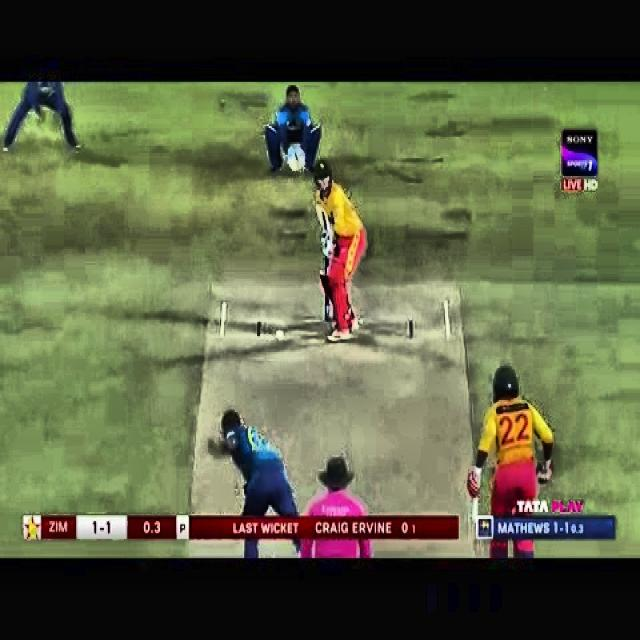Left-stump: (325, 295, 330, 320)
